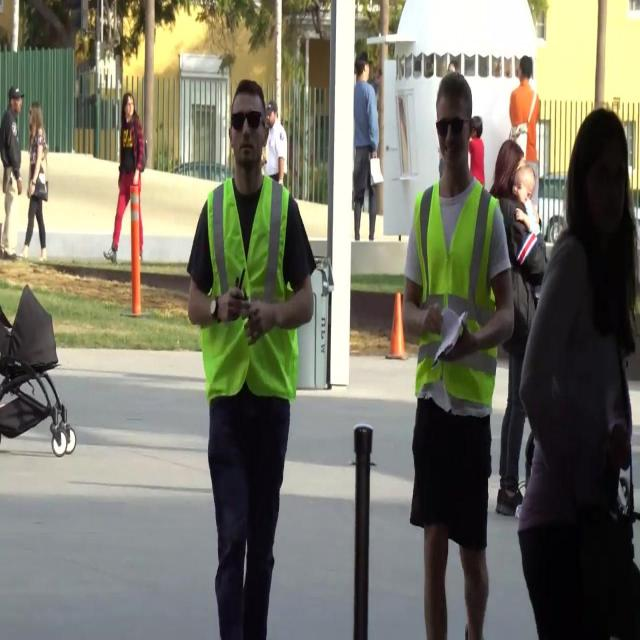Reflective-Jacket: (195, 174, 305, 407), (412, 180, 502, 414)
